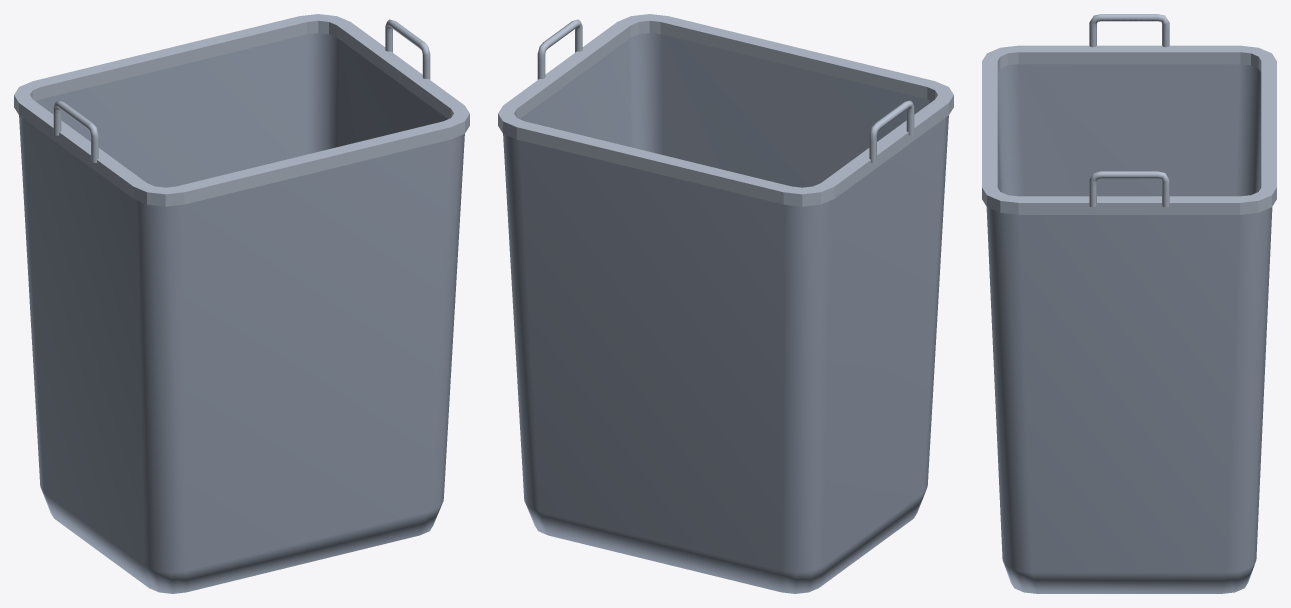
The model's file is laundry-basket.glb.
3 views of the same model, side by side, from view 1: azimuth 30°, elevation 25°; view 2: azimuth 150°, elevation 25°; view 3: azimuth 270°, elevation 25° (orthographic). The views are drawn at different scales.
Parts seen in each view (by area): view 1: laundry-basket-body, laundry-basket-trim; view 2: laundry-basket-body, laundry-basket-trim; view 3: laundry-basket-body, laundry-basket-trim.
Boxes of the visible parts, x1,y1,x2,y2 form: laundry-basket-body: [19, 33, 464, 593]; laundry-basket-trim: [14, 14, 469, 206]; laundry-basket-body: [503, 33, 948, 593]; laundry-basket-trim: [498, 14, 953, 206]; laundry-basket-body: [986, 64, 1272, 593]; laundry-basket-trim: [982, 14, 1276, 214].
Size of the model in its own units: 0.344 by 0.4345 by 0.267.
